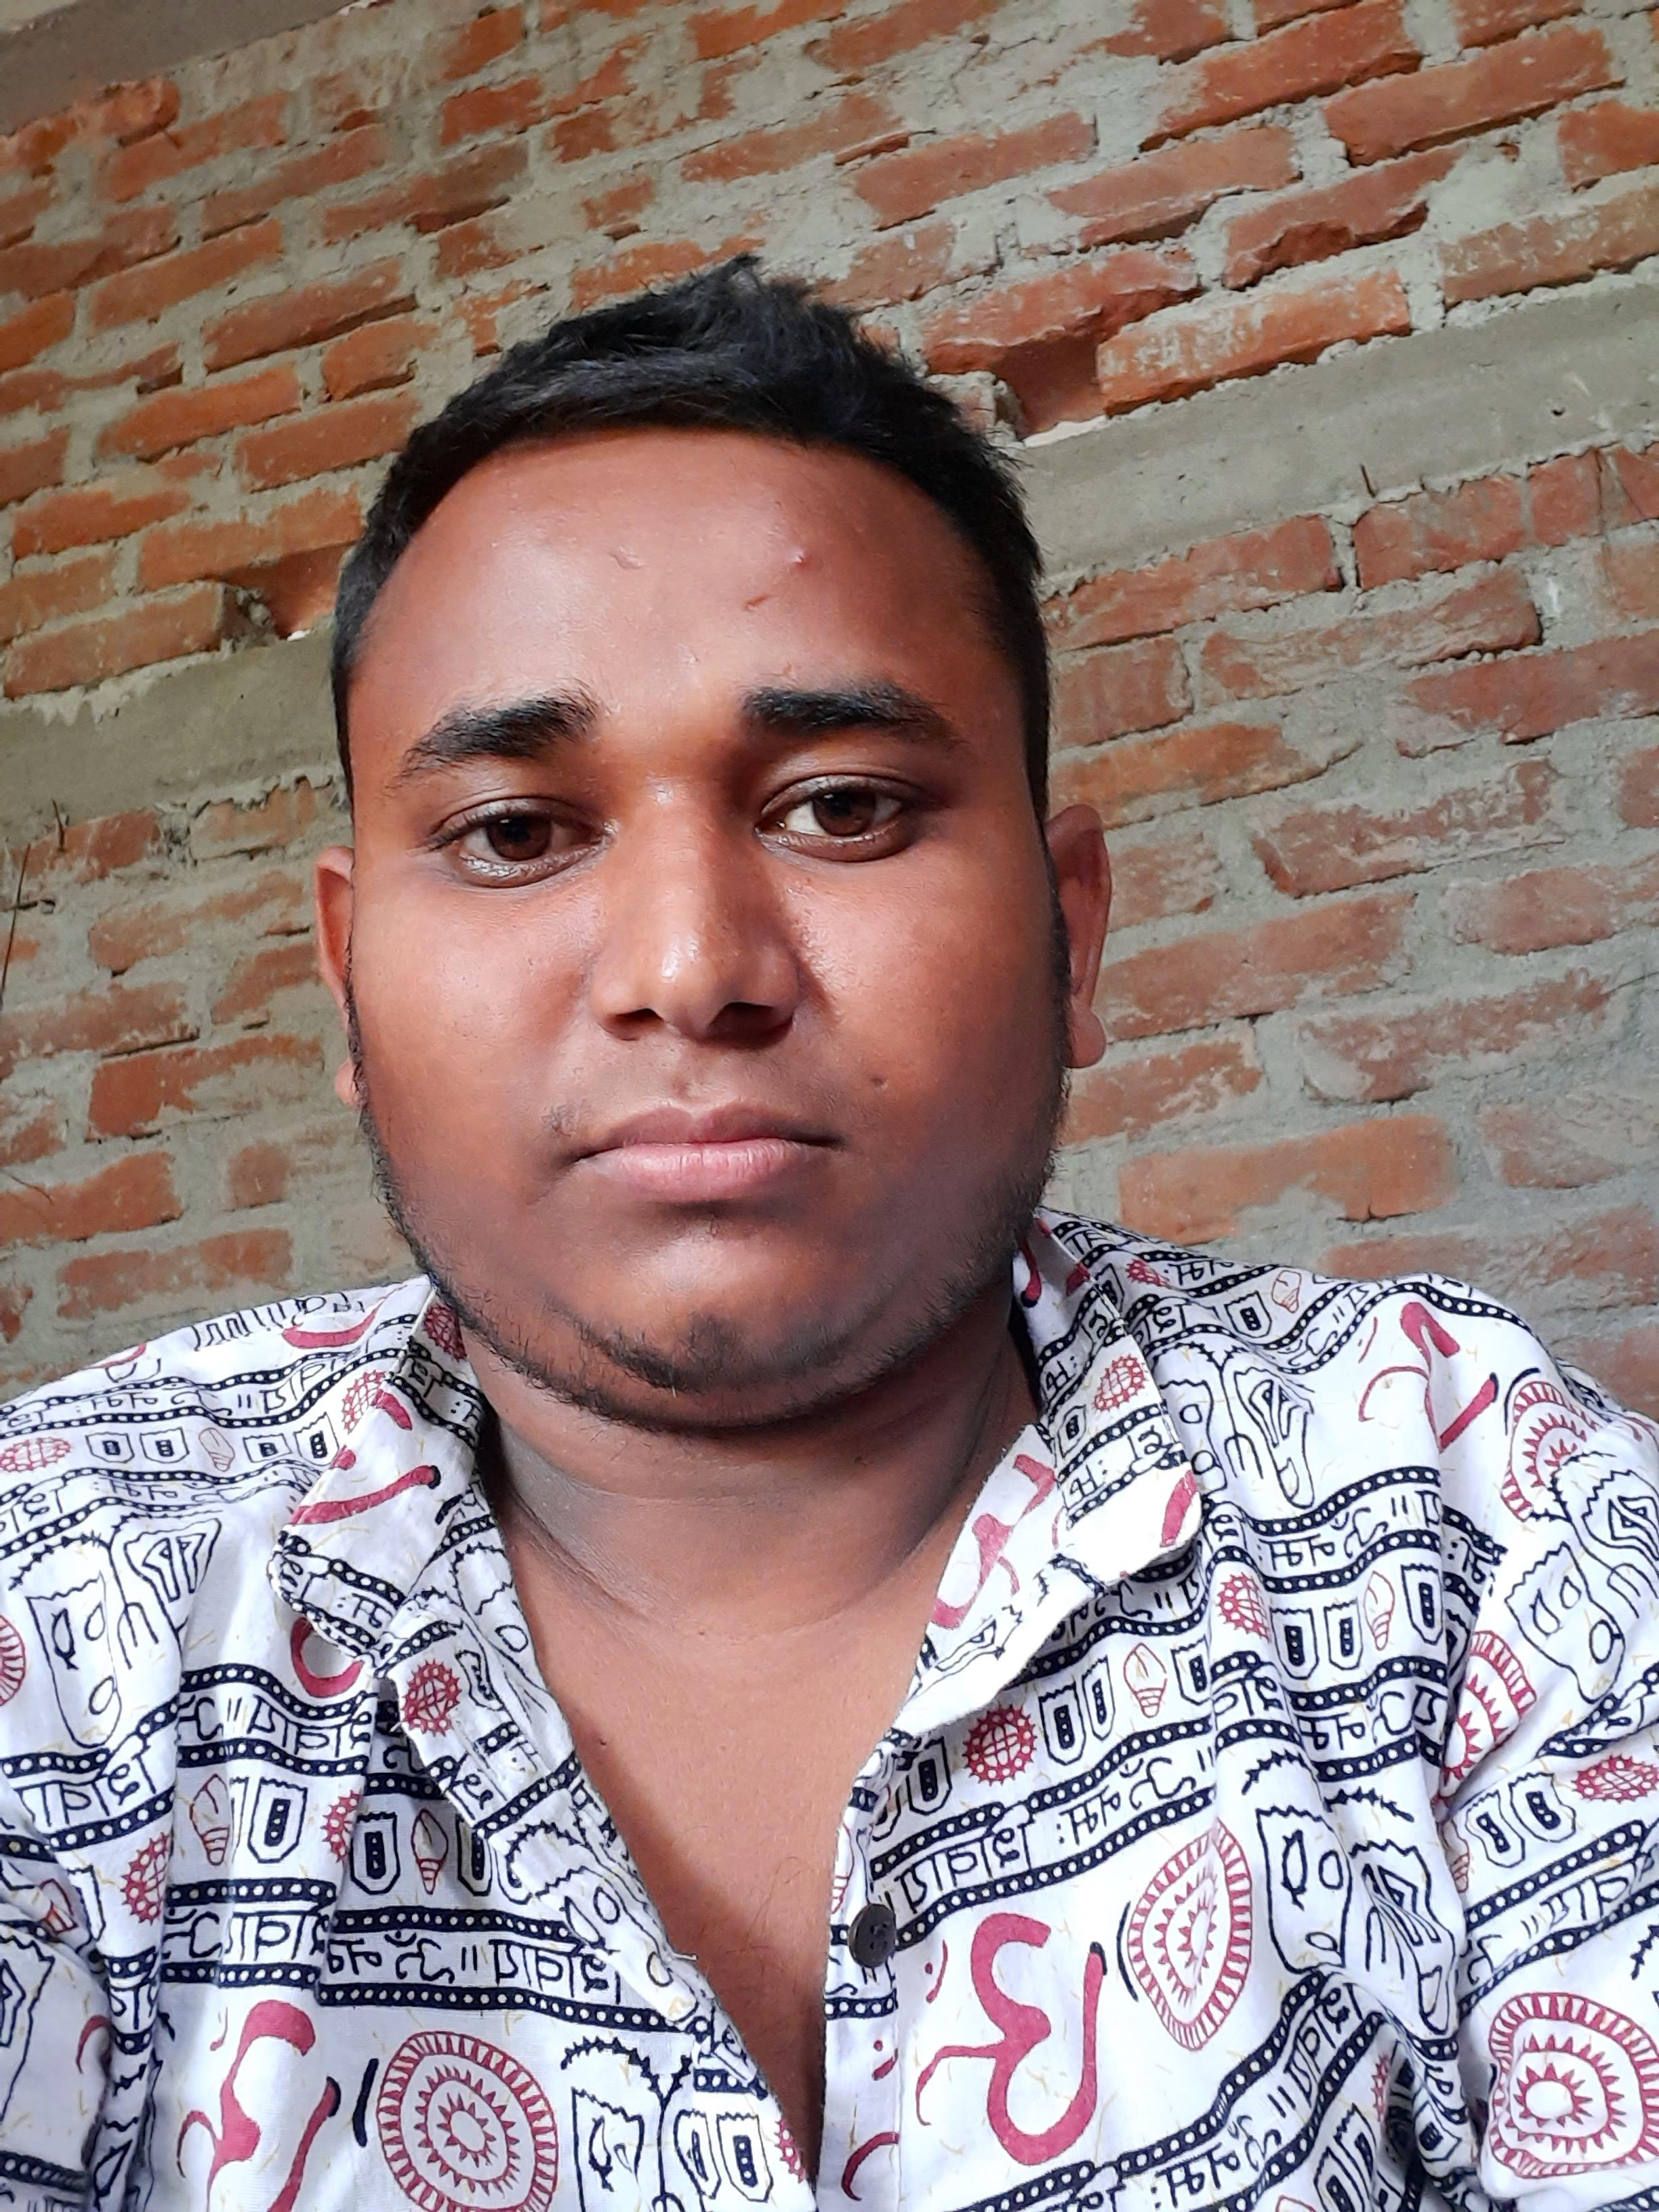Acne: (788, 540, 816, 570), (983, 697, 1006, 726)
Englarged-Pores: (420, 970, 514, 1052), (878, 937, 945, 989)
